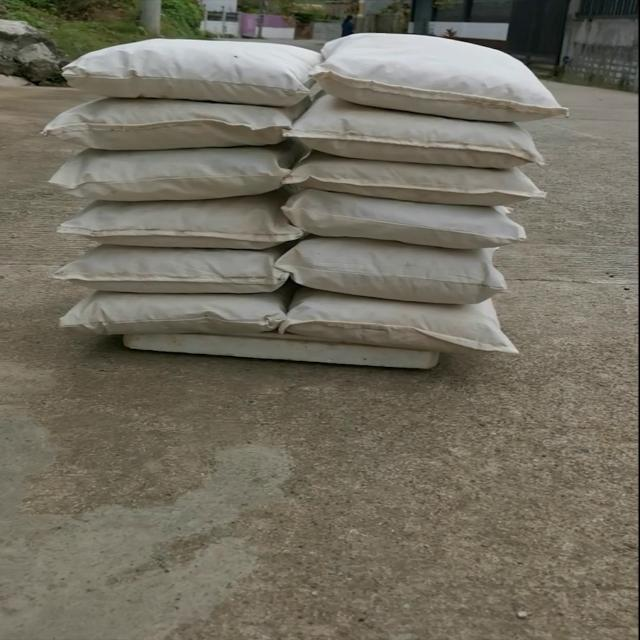Sack: (316, 28, 566, 128), (57, 31, 318, 115), (289, 97, 555, 177), (281, 152, 558, 222), (53, 139, 292, 214), (269, 235, 509, 307), (276, 191, 542, 253), (46, 90, 292, 157), (287, 293, 529, 361), (52, 190, 309, 252), (57, 283, 285, 345), (46, 247, 297, 297)
